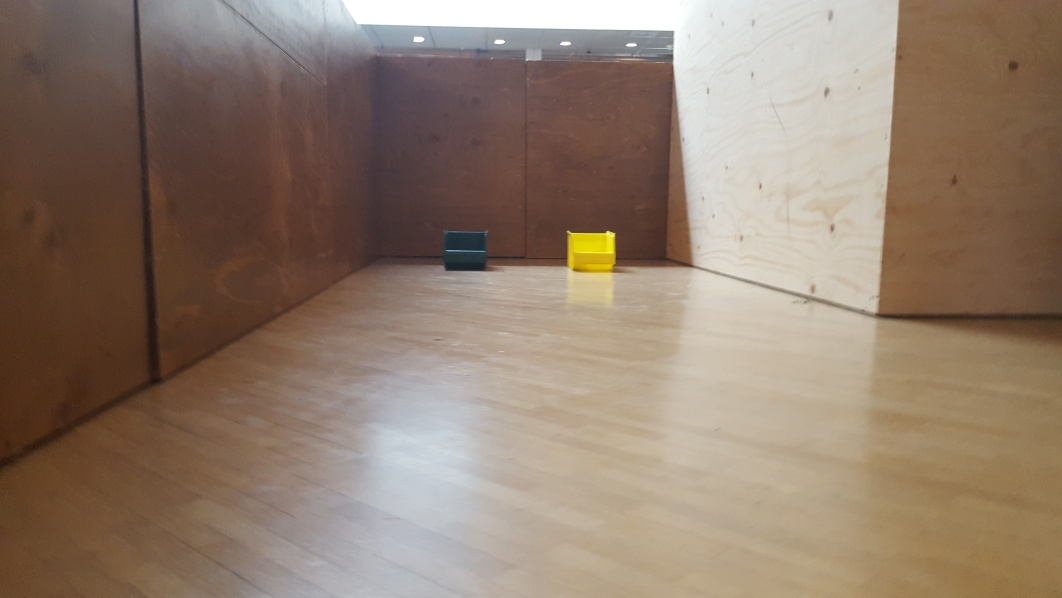tray: (558, 228, 620, 274), (441, 224, 491, 273)
